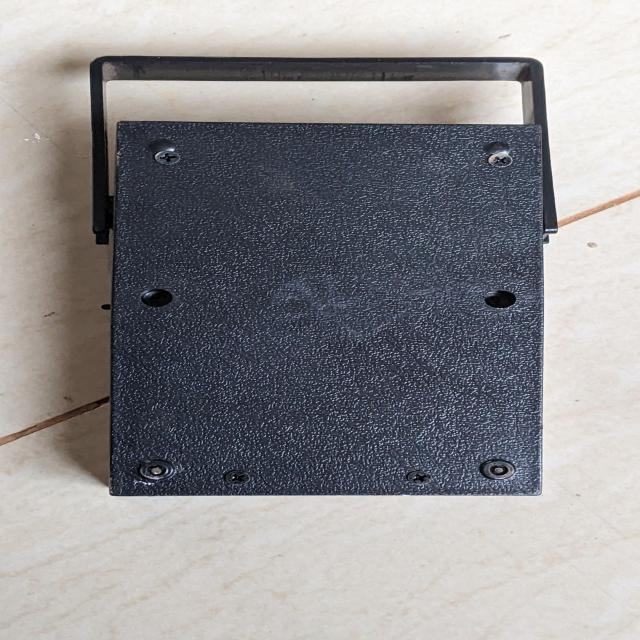Resistor Substitution Box: (44, 51, 584, 509)
